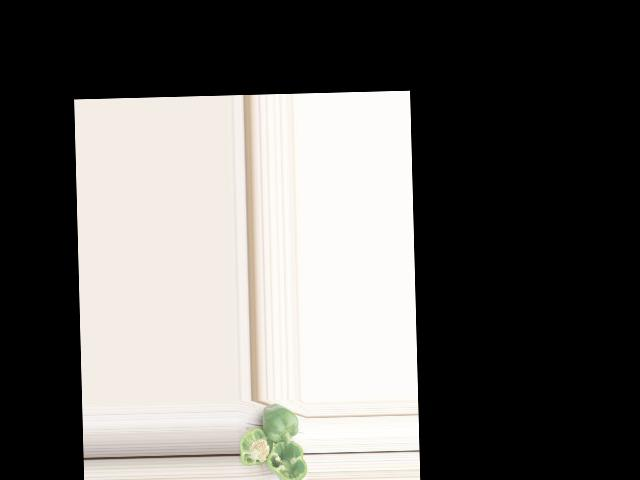bell_pepper: (239, 425, 272, 473)
